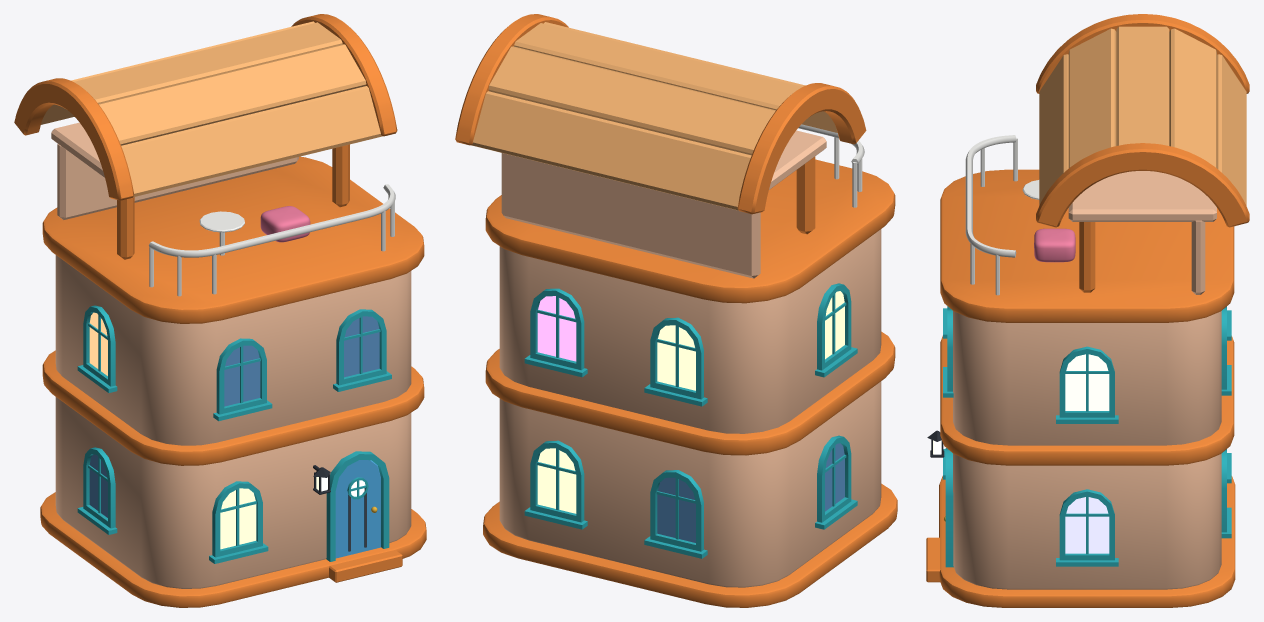
Rendered from casa_sobrado_redondo.glb.
3 views of the same model, side by side, from view 1: azimuth 30°, elevation 25°; view 2: azimuth 150°, elevation 25°; view 3: azimuth 270°, elevation 25° (orthographic). The views are drawn at different scales.
Visible parts, largest first — view 1: casa_sobrado_redondo; view 2: casa_sobrado_redondo; view 3: casa_sobrado_redondo.
Boxes of the visible parts, x1=… form: casa_sobrado_redondo: x1=14, y1=14, x2=426, y2=607; casa_sobrado_redondo: x1=455, y1=14, x2=897, y2=607; casa_sobrado_redondo: x1=926, y1=14, x2=1249, y2=607.
Size of the model in its own units: 7.2 by 10.9 by 6.99.
8 materials, 1 textured.
